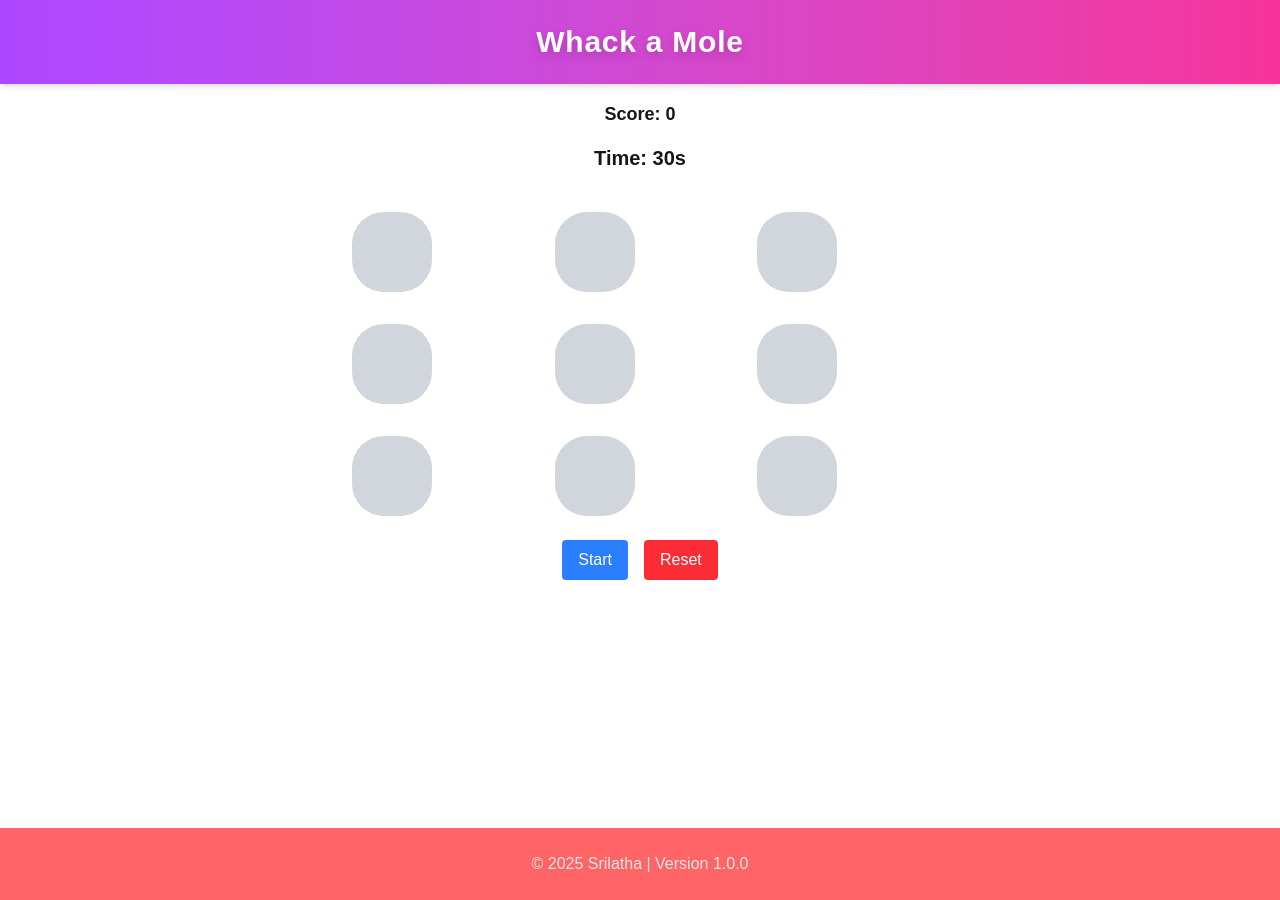
Test case: Home Page - Whack-a-Mole › Integration Tests › resets score, timer, and stops game when Reset is clicked
Click the button with test id "start-btn" at (595, 560), box 562,540 -> 628,580
Wait 1000 ms
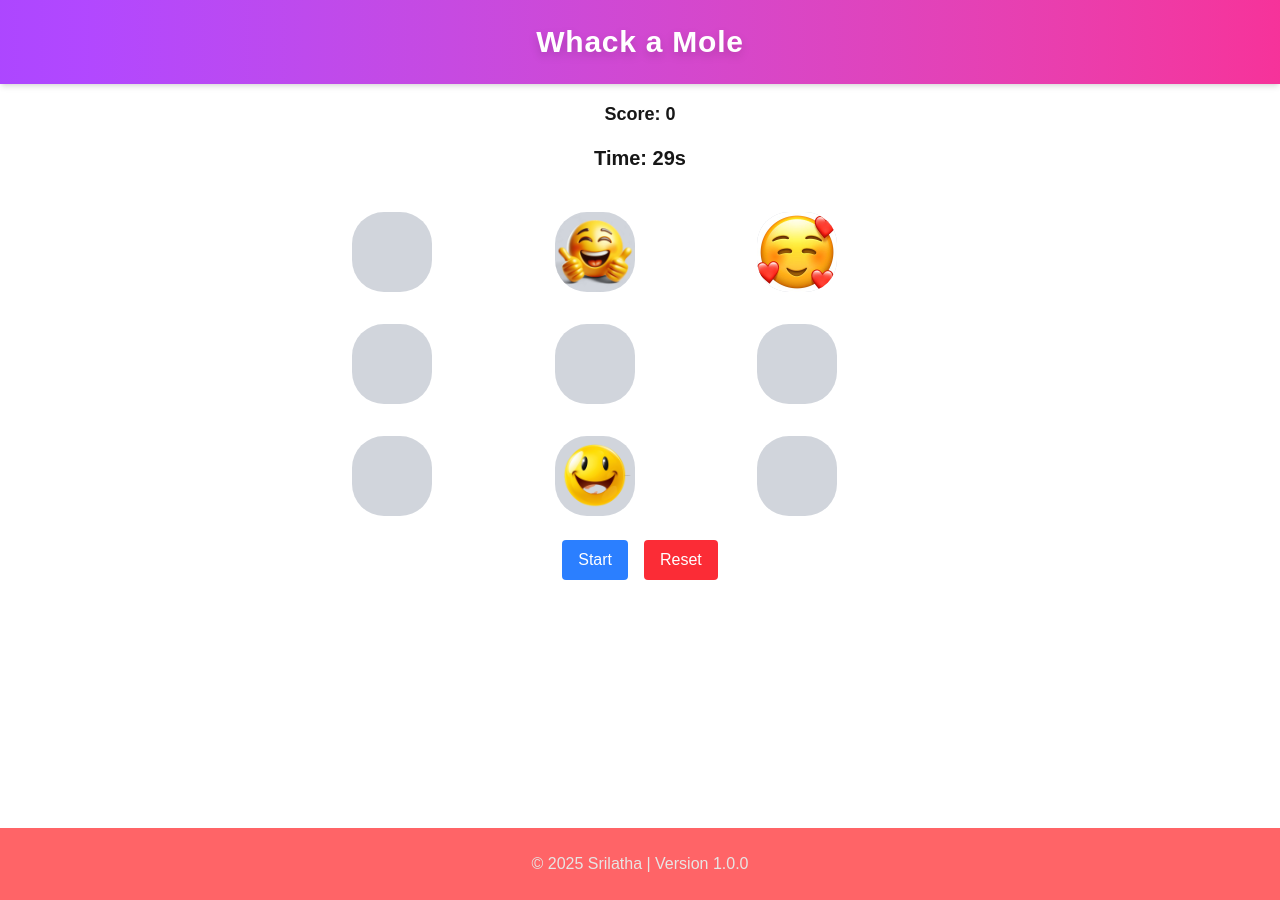
Click the button with test id "reset-btn" at (681, 560), box 644,540 -> 718,580
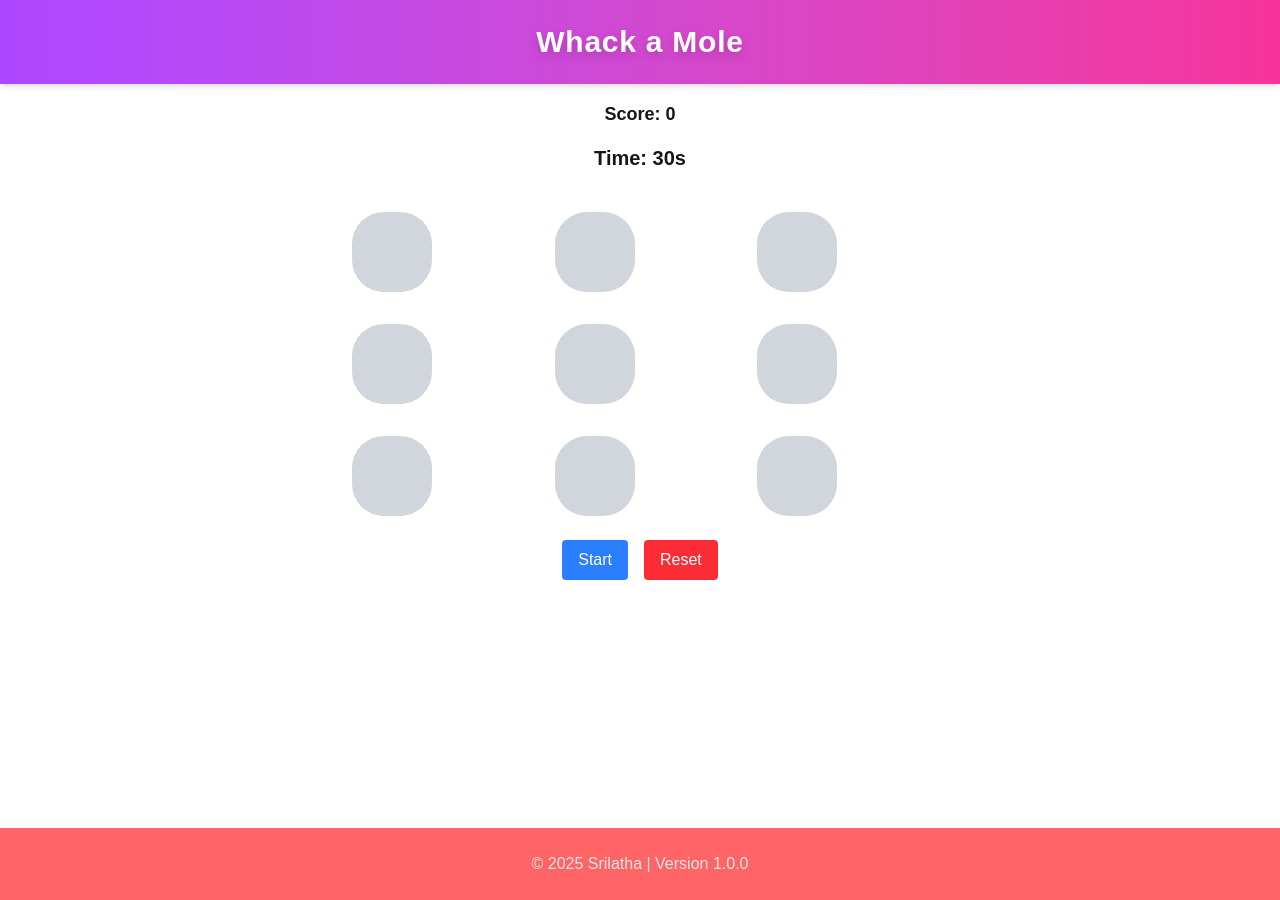
Check: the element with test id "score" reads "Score: 0", box 604,104 -> 676,124
Check: the text with test id "timer" reads "Time: 30s", box 594,147 -> 686,169
Check: no pictures with test id "mole" are shown
